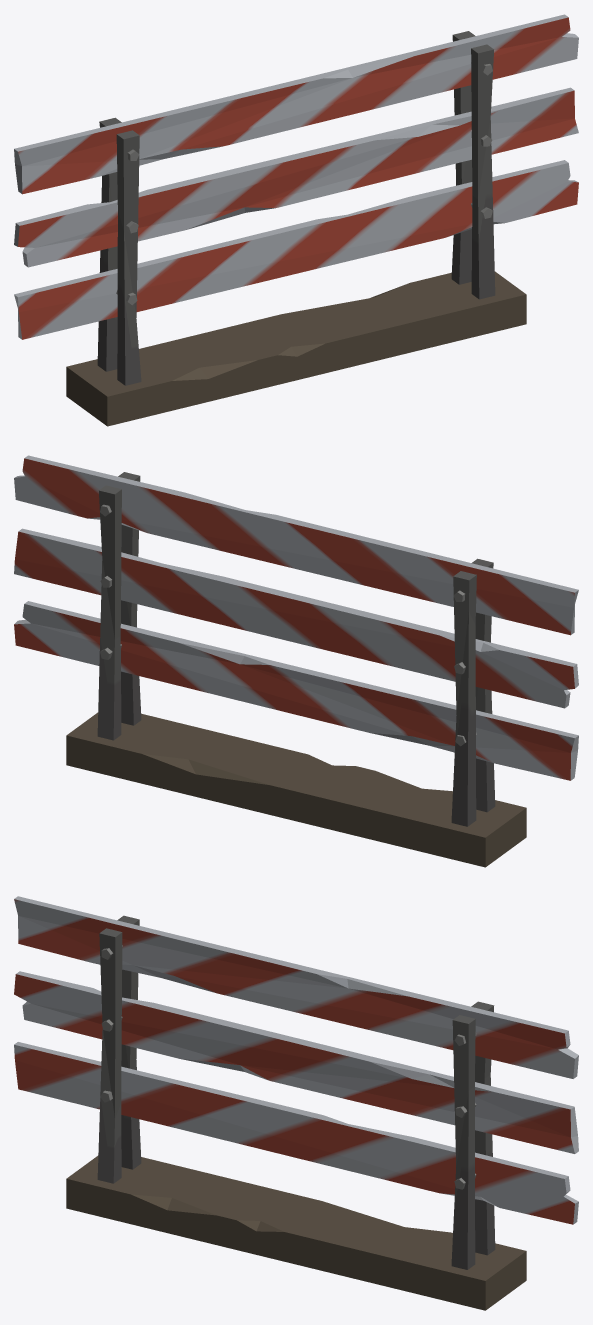
The model's file is SM_Prop_Roadblock_01.fbx.
3 views of the same model, one above another, from view 1: azimuth 30°, elevation 25°; view 2: azimuth 150°, elevation 25°; view 3: azimuth 330°, elevation 25° (orthographic).
Parts seen in each view (by area): view 1: SM_Prop_Roadblock_01; view 2: SM_Prop_Roadblock_01; view 3: SM_Prop_Roadblock_01.
Part boxes in pixels (<box>): SM_Prop_Roadblock_01: <box>14,14,578,426</box>; SM_Prop_Roadblock_01: <box>14,455,578,867</box>; SM_Prop_Roadblock_01: <box>14,896,578,1310</box>.
Size of the model in its own units: 275 by 130 by 34.88.
